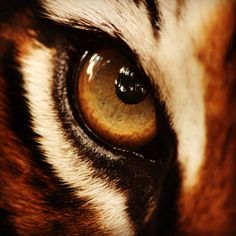Tigrew: (21, 9, 219, 220)
